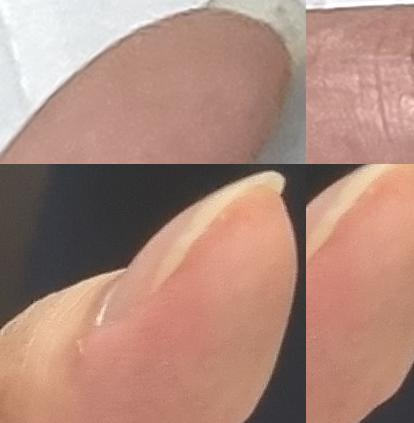Fingerprints: (44, 185, 297, 423), (0, 8, 292, 164), (306, 164, 414, 423), (306, 5, 414, 164)
